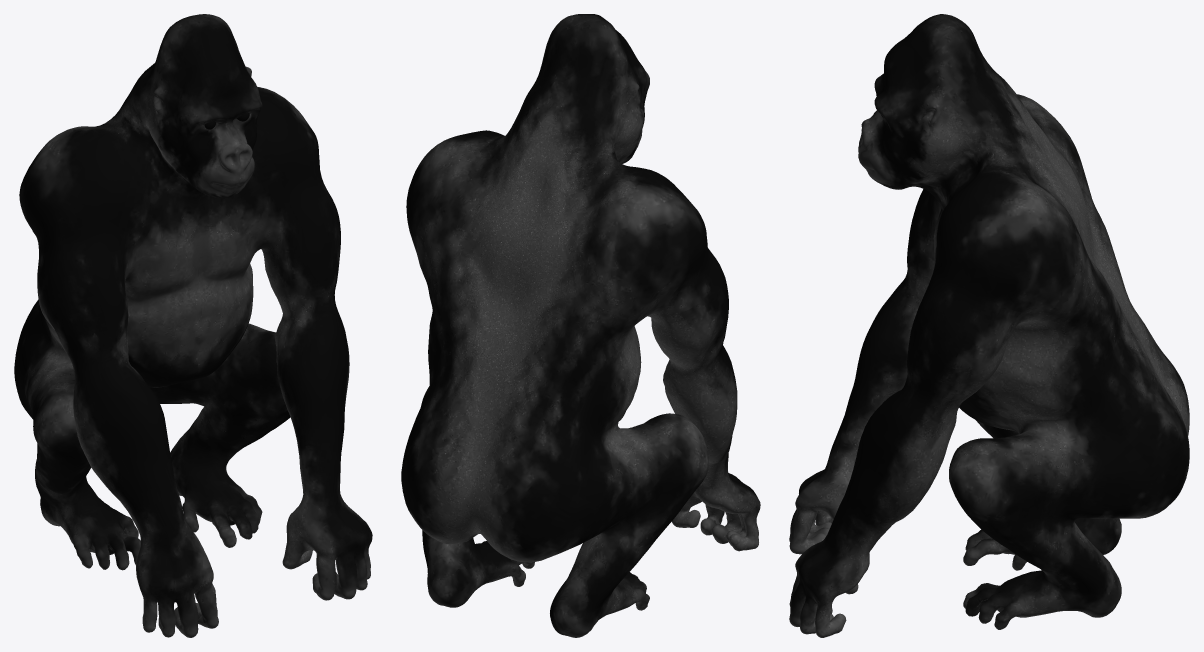
File: gorilla.glb
3 renders of one model, left to right at view 1: azimuth 30°, elevation 25°; view 2: azimuth 150°, elevation 25°; view 3: azimuth 270°, elevation 25°, orthographic. The views are drawn at different scales.
Visible parts, largest first — view 1: Cylinder.002; view 2: Cylinder.002; view 3: Cylinder.002.
Part boxes in pixels (x1,y1,x2,y2): Cylinder.002: [14, 14, 372, 637]; Cylinder.002: [401, 14, 760, 637]; Cylinder.002: [789, 14, 1189, 637].
Bounding box in the file's own units: 342 × 619 × 396.
Materials: 2 (1 with a texture image).
